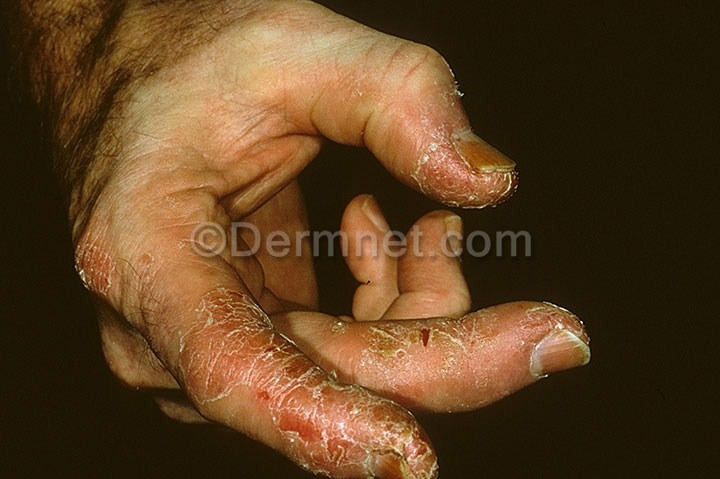Psoriasis: (175, 290, 306, 413), (355, 304, 496, 393), (305, 385, 436, 479), (413, 131, 515, 206), (76, 236, 125, 305), (522, 301, 586, 346)
